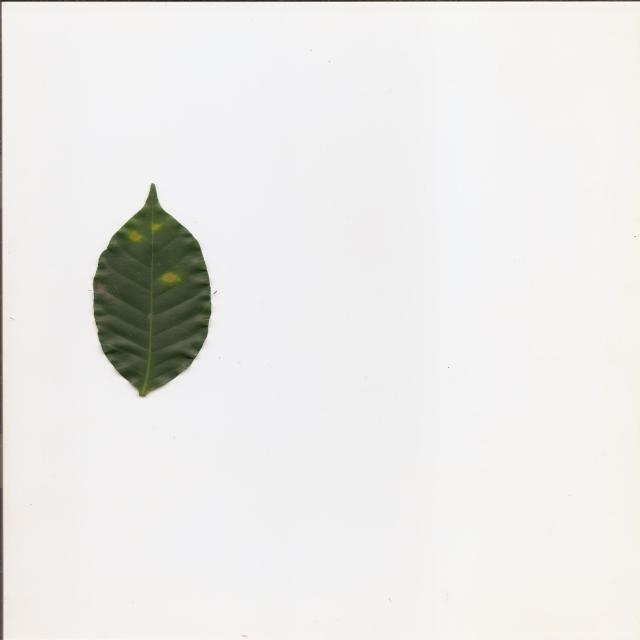Enfermedad-Roya: (91, 186, 213, 401)
